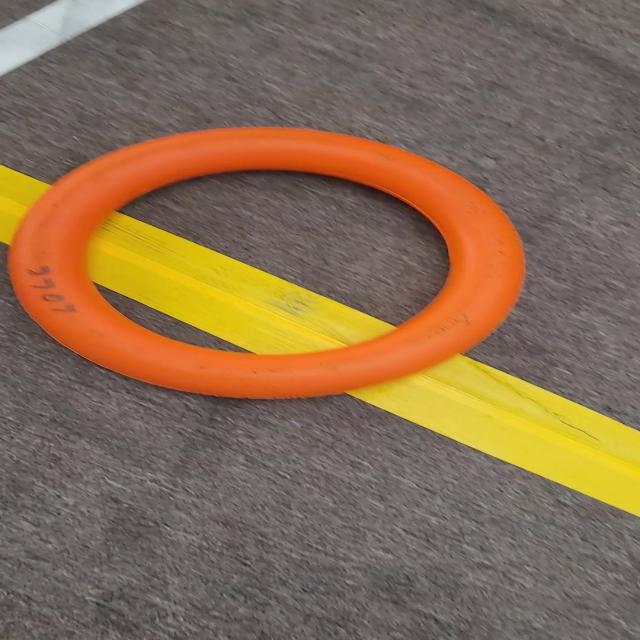note: (0, 124, 539, 404)
